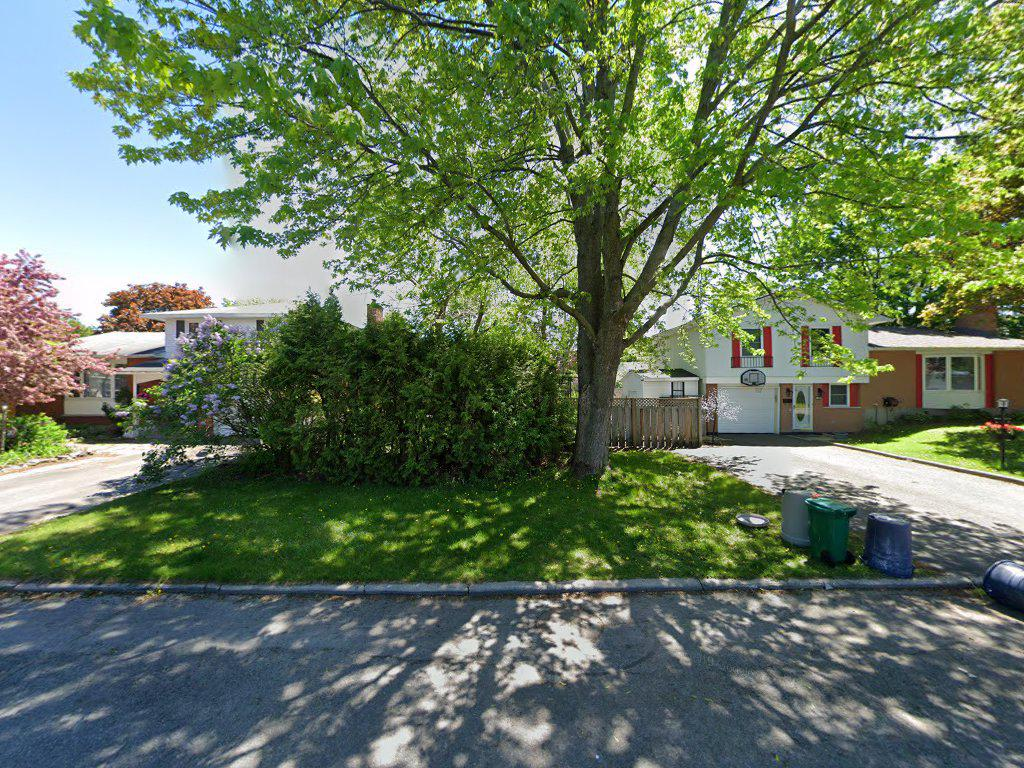trunk: (569, 184, 627, 516)
